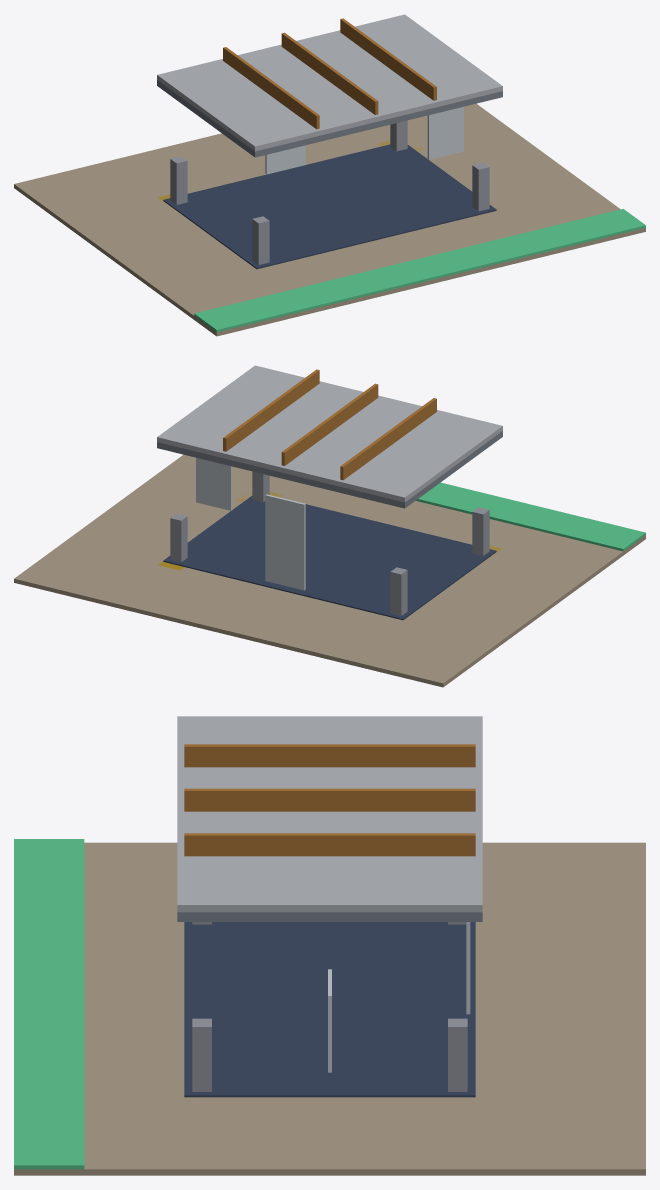
The model's file is stage_11_finishing.glb.
3 views of the same model, one above another, from view 1: azimuth 30°, elevation 25°; view 2: azimuth 150°, elevation 25°; view 3: azimuth 270°, elevation 25° (orthographic). The views are drawn at different scales.
Visible parts, largest first — view 1: world; view 2: world; view 3: world.
Boxes of the visible parts, x1,y1,x2,y2 form: world: [14, 14, 645, 336]; world: [14, 365, 645, 687]; world: [14, 716, 645, 1175].
Size of the model in its own units: 11 by 4.2 by 9.
